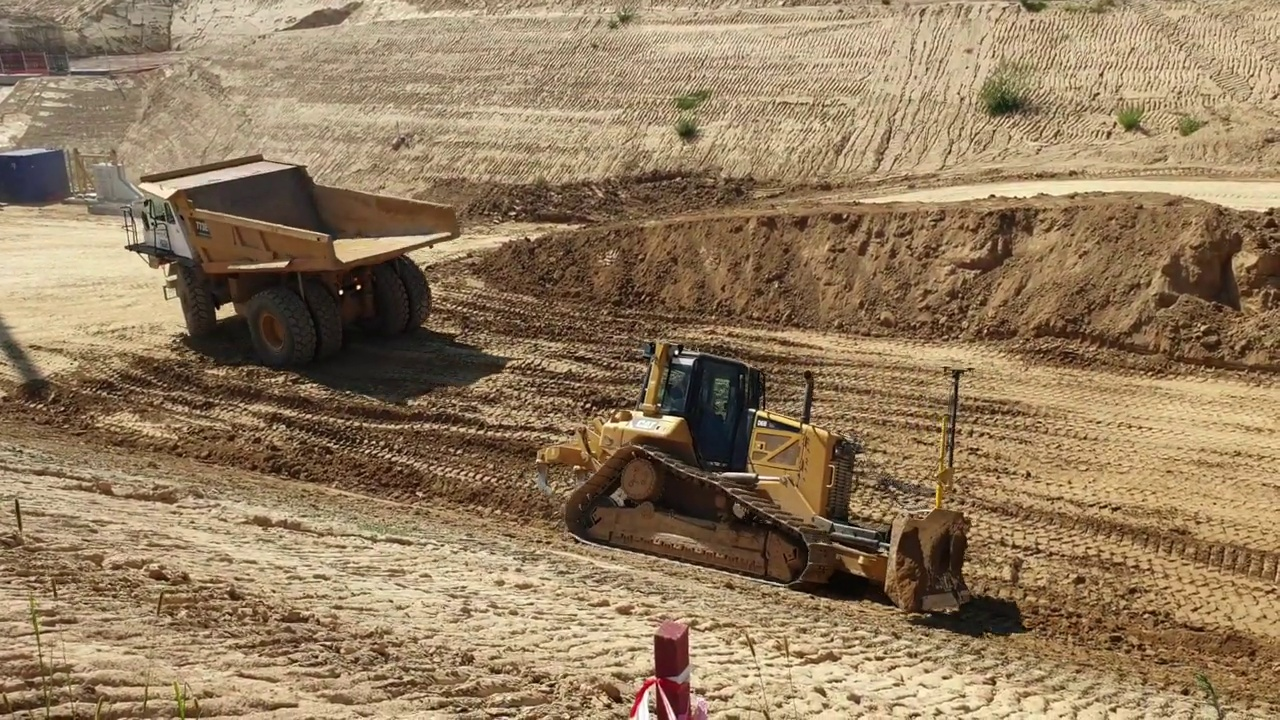bulldozer: (529, 333, 984, 617)
truck: (116, 150, 468, 371)
